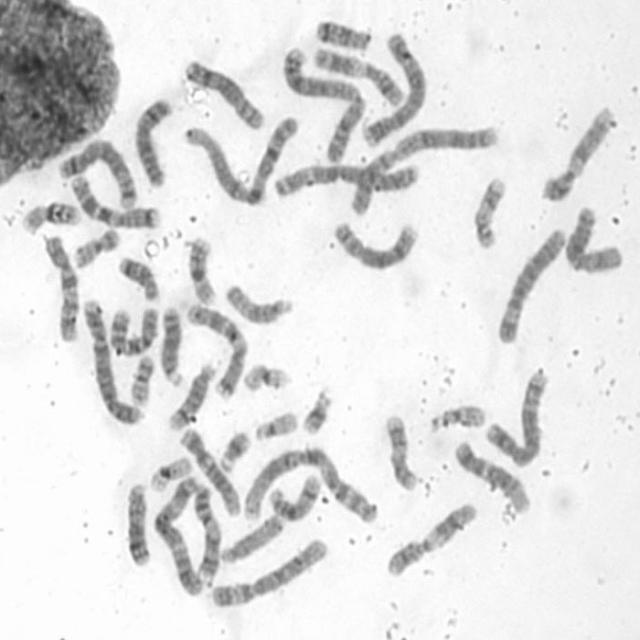A1: (181, 112, 304, 209), (242, 444, 382, 527)
A2: (347, 122, 508, 220), (280, 40, 370, 167)
A3: (150, 474, 206, 598), (270, 161, 422, 201)
B4: (77, 299, 146, 426), (360, 31, 428, 149)
B5: (480, 369, 554, 462), (57, 136, 138, 212)
C10: (41, 232, 82, 346), (105, 298, 164, 358)
C11: (382, 500, 479, 578), (309, 43, 407, 108)
C12: (454, 439, 532, 516), (178, 426, 244, 516)
C6: (209, 536, 329, 612), (496, 224, 568, 348)
C7: (181, 299, 252, 403), (67, 170, 162, 231)
C8: (181, 57, 268, 130), (329, 217, 421, 270)
C9: (537, 106, 620, 203), (183, 484, 224, 590)
D13: (125, 480, 154, 569), (156, 305, 185, 385)
D14: (168, 360, 220, 432), (267, 471, 323, 522)
D15: (220, 511, 286, 565), (220, 281, 296, 327)
E16: (183, 232, 218, 304), (20, 199, 82, 238)
E17: (468, 170, 508, 254), (382, 412, 422, 494)
E18: (114, 252, 162, 302), (312, 16, 373, 53)
F19: (147, 455, 194, 492), (240, 361, 291, 394)
F20: (70, 226, 122, 271), (129, 356, 155, 406)
G21: (297, 385, 336, 437), (217, 426, 252, 472)
G22: (429, 401, 486, 435), (251, 410, 299, 441)
X: (562, 204, 626, 276), (132, 97, 174, 194)
